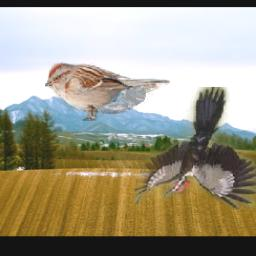Sparrow: (44, 62, 169, 122)
Woodpecker: (134, 88, 256, 210)
